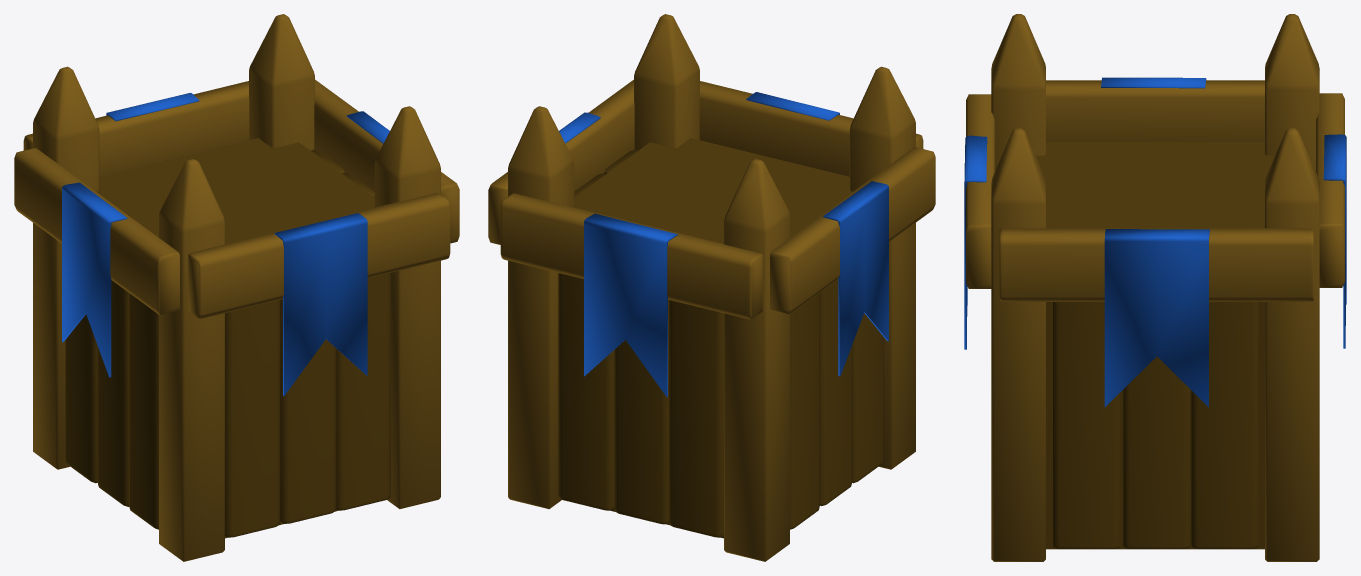
File: ArcherTower_Level1_BlueTeam.glb
3 renders of one model, left to right at view 1: azimuth 30°, elevation 25°; view 2: azimuth 150°, elevation 25°; view 3: azimuth 270°, elevation 25°, orthographic. The views are drawn at different scales.
Visible parts, largest first — view 1: ArcherTower_Level1_BlueTeam; view 2: ArcherTower_Level1_BlueTeam; view 3: ArcherTower_Level1_BlueTeam.
Part boxes in pixels (x1,y1,x2,y2): ArcherTower_Level1_BlueTeam: [14, 14, 459, 561]; ArcherTower_Level1_BlueTeam: [488, 14, 935, 561]; ArcherTower_Level1_BlueTeam: [964, 14, 1346, 561].
Bounding box in the file's own units: 13.97 × 17.01 × 13.97.
